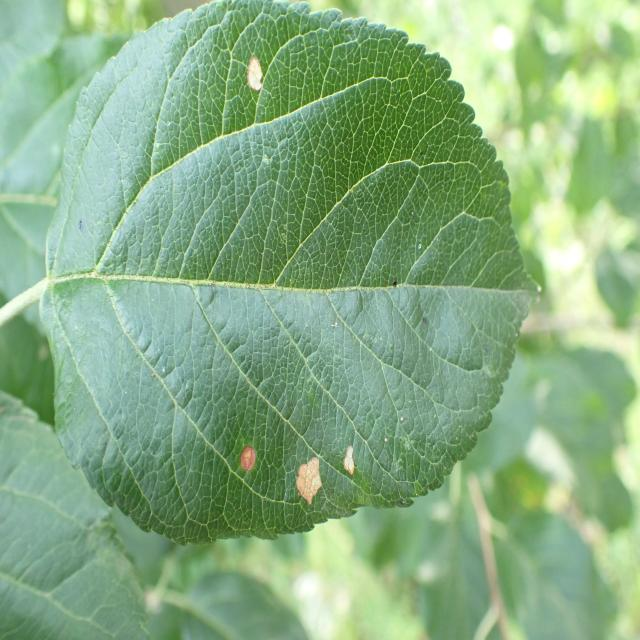Black Rot: (229, 24, 274, 125), (293, 441, 325, 521), (233, 439, 268, 489), (338, 432, 360, 496)
